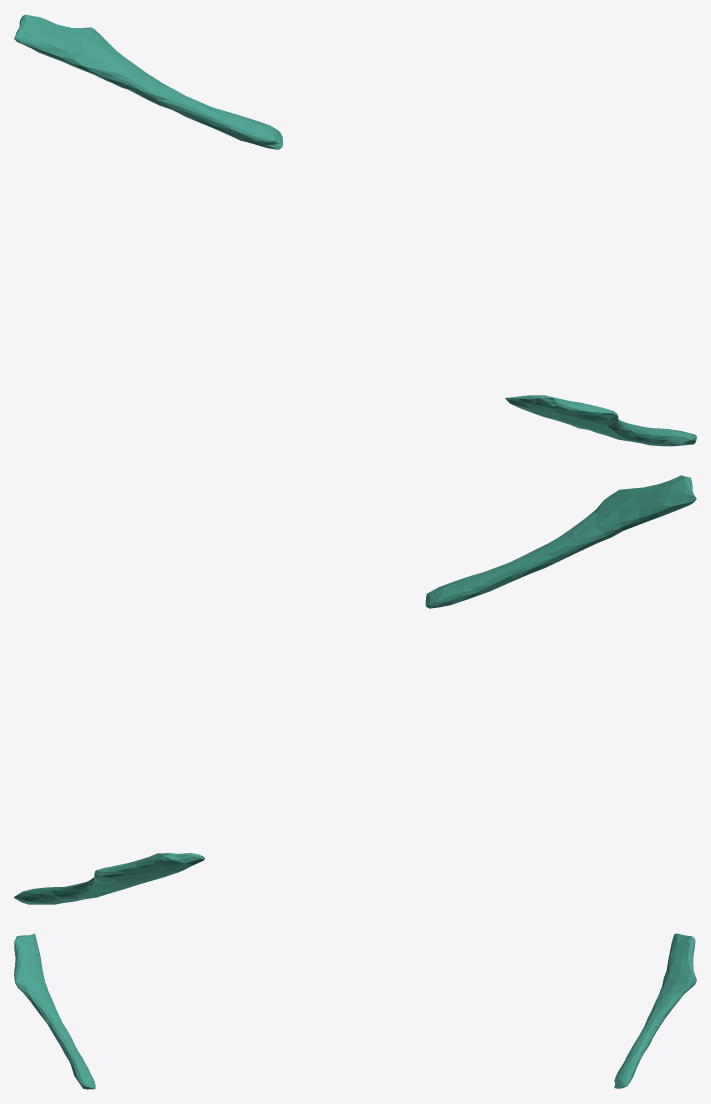
3 views of the same model, one above another, from view 1: azimuth 30°, elevation 25°; view 2: azimuth 150°, elevation 25°; view 3: azimuth 270°, elevation 25° (orthographic). The views are drawn at different scales.
Parts seen in each view (by area): view 1: 182305693.obj; view 2: 182305693.obj; view 3: 182305693.obj.
Part boxes in pixels (left/top/right/bottom): 182305693.obj: left=14, top=14, right=696, bottom=446; 182305693.obj: left=14, top=475, right=696, bottom=904; 182305693.obj: left=14, top=933, right=696, bottom=1089.
Bounding box in the file's own units: 1720 × 993 × 6766.
